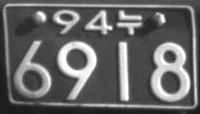1: (105, 41, 143, 101)
4: (85, 9, 112, 36)
6: (12, 40, 52, 99)
8: (149, 40, 191, 104)
9: (56, 39, 98, 100), (52, 8, 80, 35)
누: (115, 9, 144, 35)
